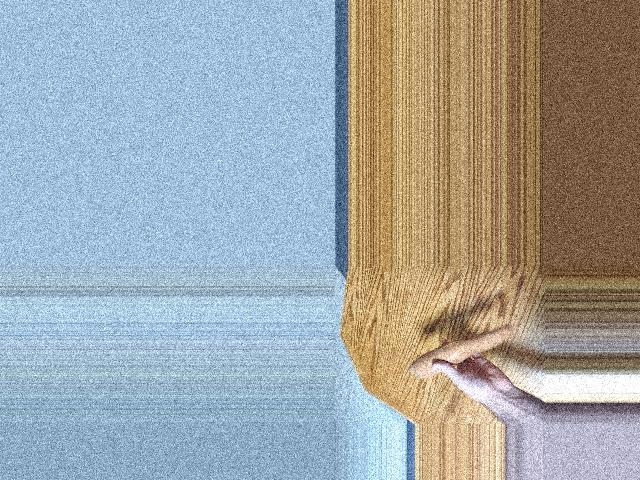sweet_potato: (405, 332, 514, 366)
